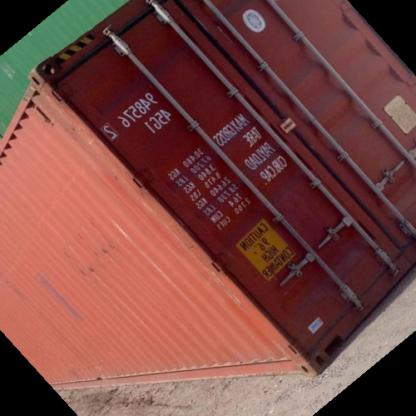Damage: (321, 244, 371, 310), (274, 186, 328, 234), (38, 265, 74, 327), (79, 240, 115, 282)
